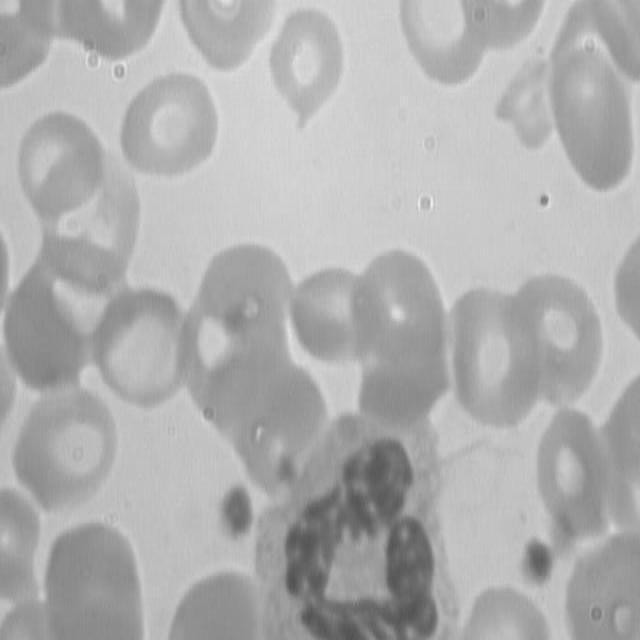Platelets: (519, 527, 562, 592), (217, 487, 256, 542)
RBC: (9, 382, 130, 522), (84, 278, 205, 418), (499, 270, 620, 410), (431, 288, 552, 428), (536, 34, 639, 198), (32, 514, 154, 638), (115, 71, 226, 180), (1, 107, 112, 216), (531, 411, 613, 549), (287, 262, 384, 370), (265, 6, 344, 138), (388, 0, 488, 96)
WBC: (251, 409, 458, 639)
